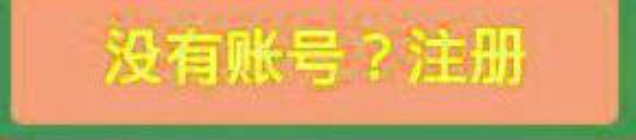Button: (1, 1, 635, 139)
